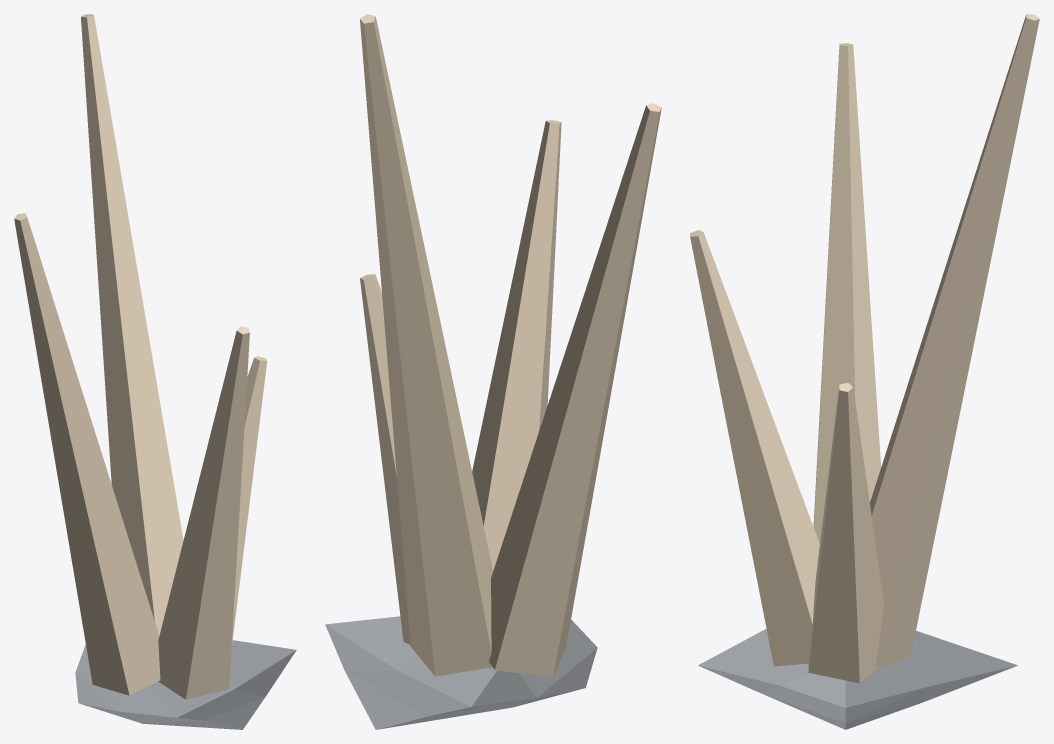
Rendered from crystal_v12.glb.
The picture shows the model from 3 angles, left to right: view 1: azimuth 30°, elevation 25°; view 2: azimuth 150°, elevation 25°; view 3: azimuth 270°, elevation 25°; orthographic projection. The views are drawn at different scales.
Visible parts, largest first — view 1: lod0; view 2: lod0; view 3: lod0.
Boxes of the visible parts, left/top/right/bottom form: lod0: left=14, top=14, right=296, bottom=729; lod0: left=325, top=14, right=661, bottom=729; lod0: left=690, top=14, right=1039, bottom=729.
Size of what is drawn, in the model's own units: 0.6877 by 1.5 by 0.6855.
